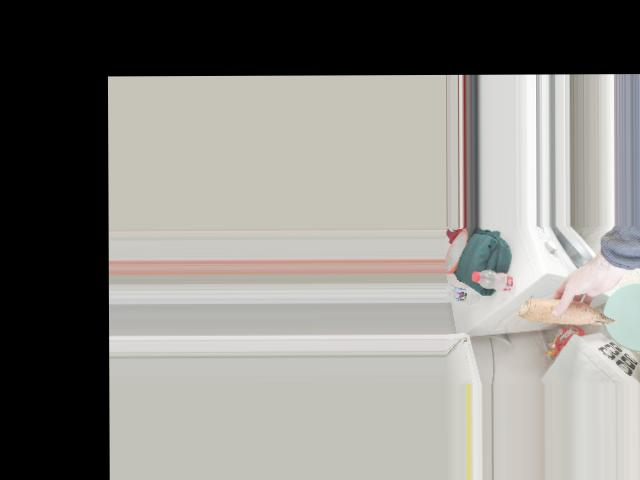sweet_potato: (515, 295, 612, 325)
